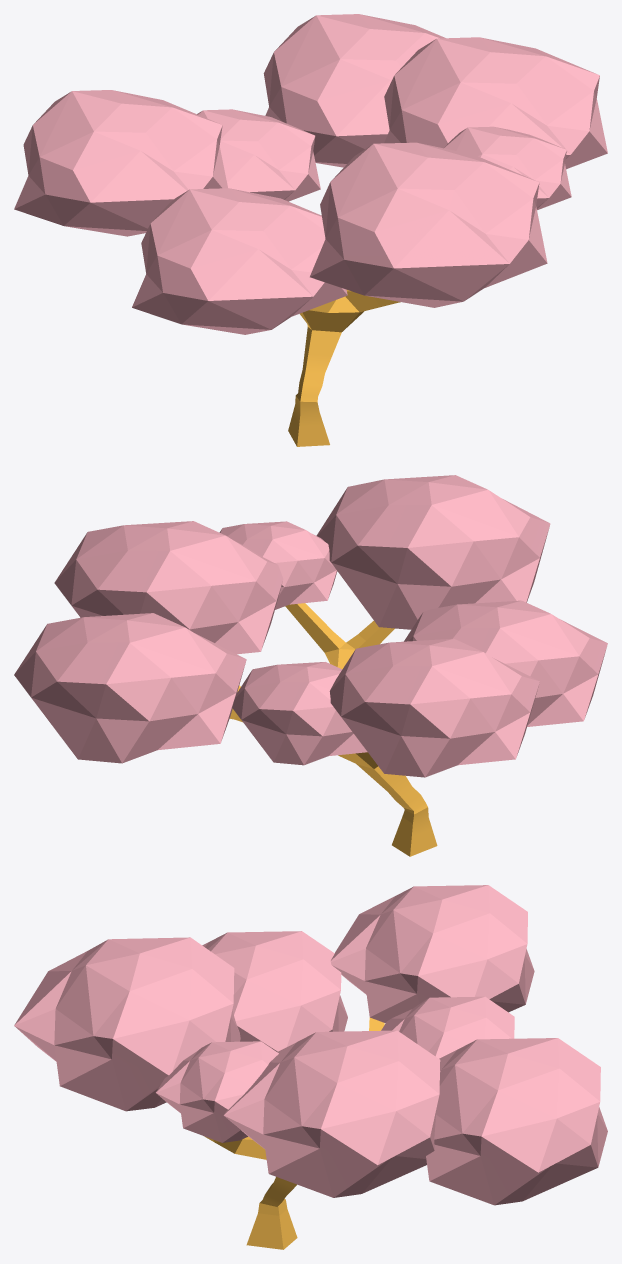
Rendered from Puno.fbx.
3 renders of one model, top to bottom at view 1: azimuth 30°, elevation 25°; view 2: azimuth 150°, elevation 25°; view 3: azimuth 270°, elevation 25°, orthographic. The views are drawn at different scales.
Visible parts, largest first — view 1: Puno; view 2: Puno; view 3: Puno.
Part boxes in pixels (x1,y1,x2,y2): Puno: [14, 14, 607, 446]; Puno: [14, 475, 607, 856]; Puno: [14, 885, 607, 1249].
Size of the model in its own units: 2048 by 1197 by 2041.
